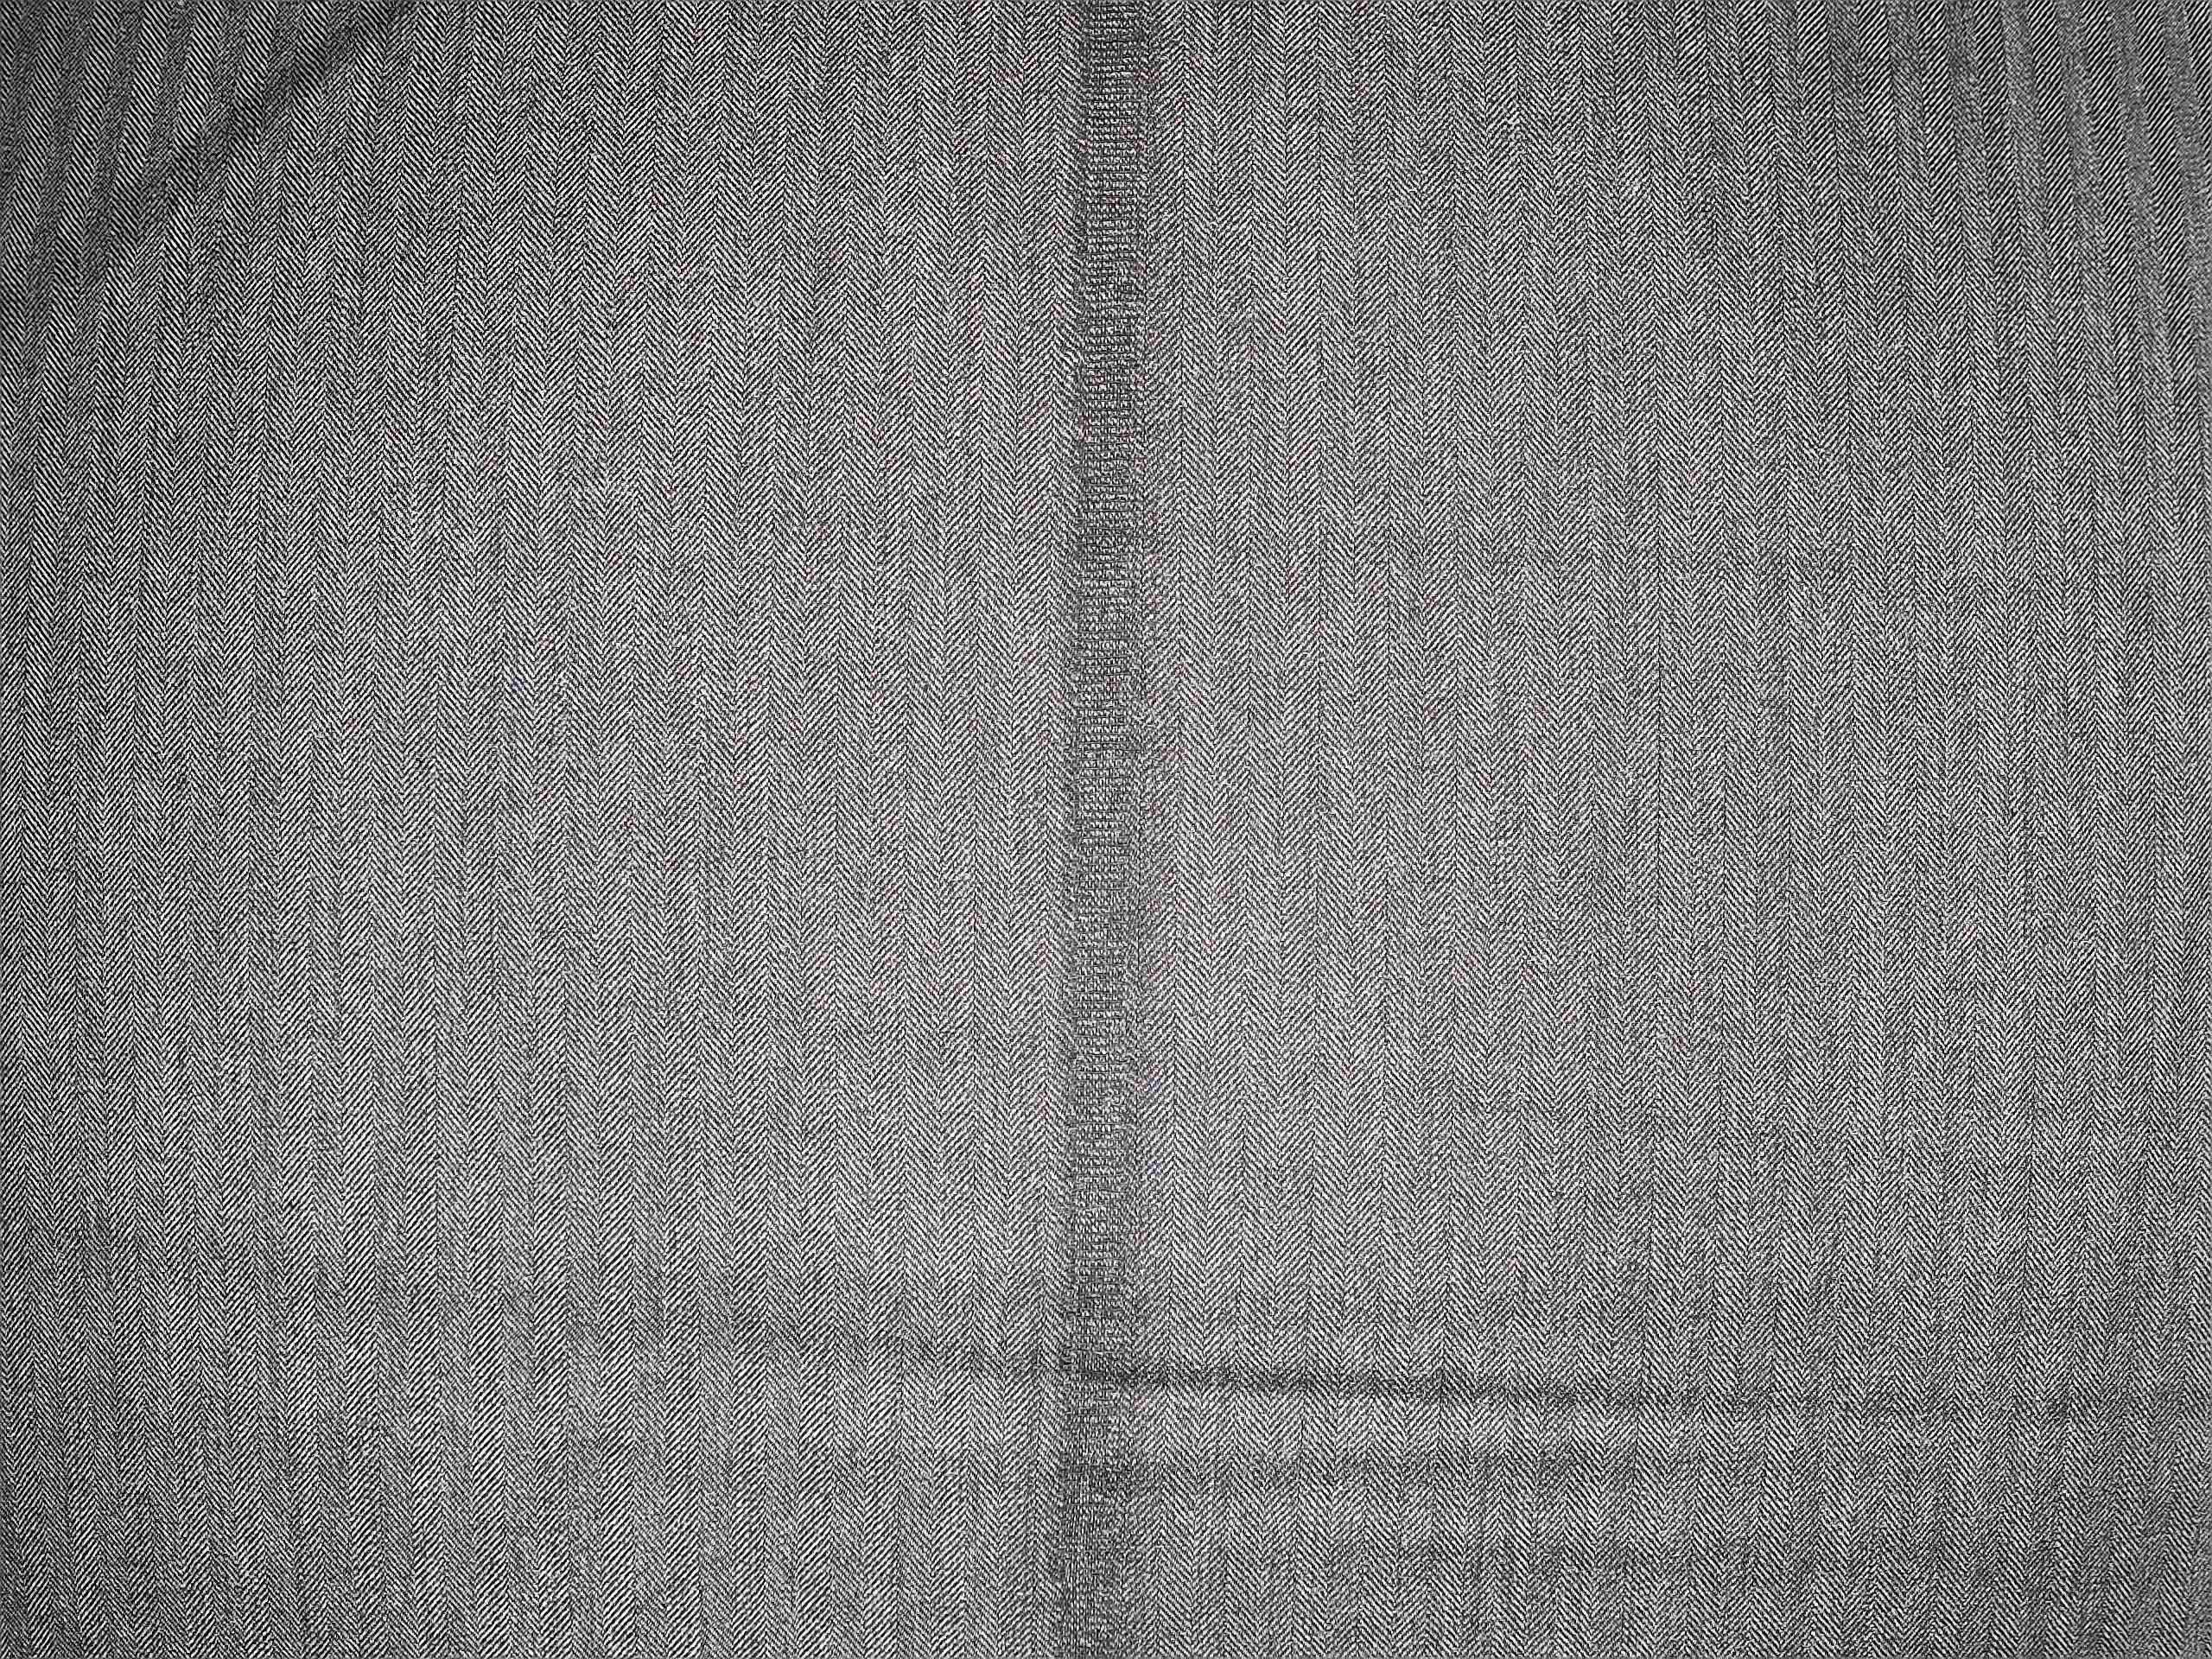others: (1015, 9, 1191, 1633)
